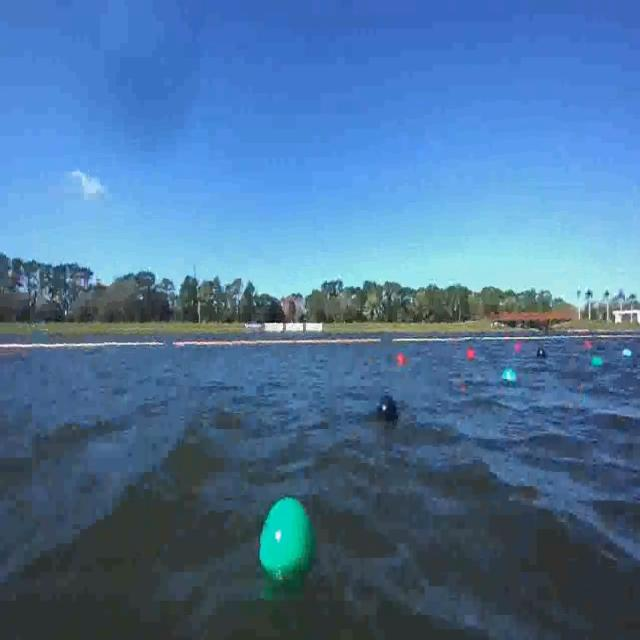black-buoy: (378, 397, 400, 425), (536, 348, 546, 359)
green-buoy: (260, 498, 316, 590), (502, 367, 515, 383), (589, 357, 601, 368), (623, 349, 633, 359)
red-buoy: (396, 351, 407, 367), (466, 348, 475, 362)
